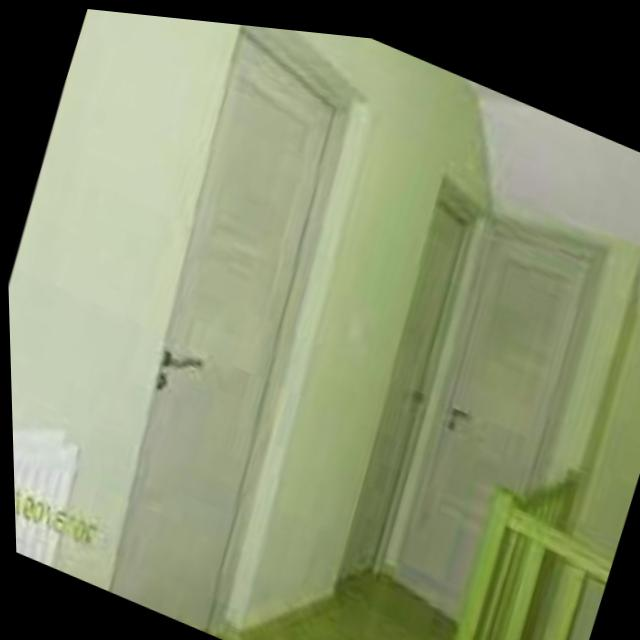door_handle: (150, 330, 222, 392), (435, 378, 487, 421)
